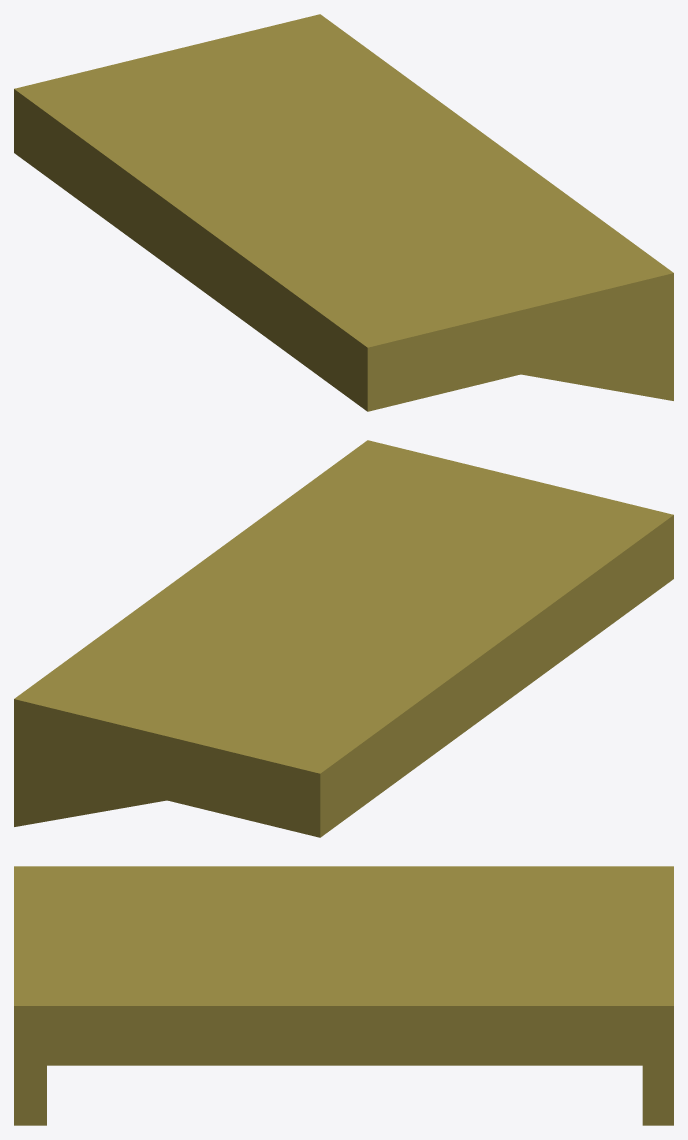
Rendered from Shelf.fbx.
The picture shows the model from 3 angles, top to bottom: view 1: azimuth 30°, elevation 25°; view 2: azimuth 150°, elevation 25°; view 3: azimuth 270°, elevation 25°; orthographic projection. The views are drawn at different scales.
Parts seen in each view (by area): view 1: Cube; view 2: Cube; view 3: Cube.
Part boxes in pixels (bbox=[...]): Cube: bbox=[14, 14, 673, 411]; Cube: bbox=[14, 440, 673, 837]; Cube: bbox=[14, 866, 673, 1125].
Size of the model in its own units: 100 by 40 by 200.
